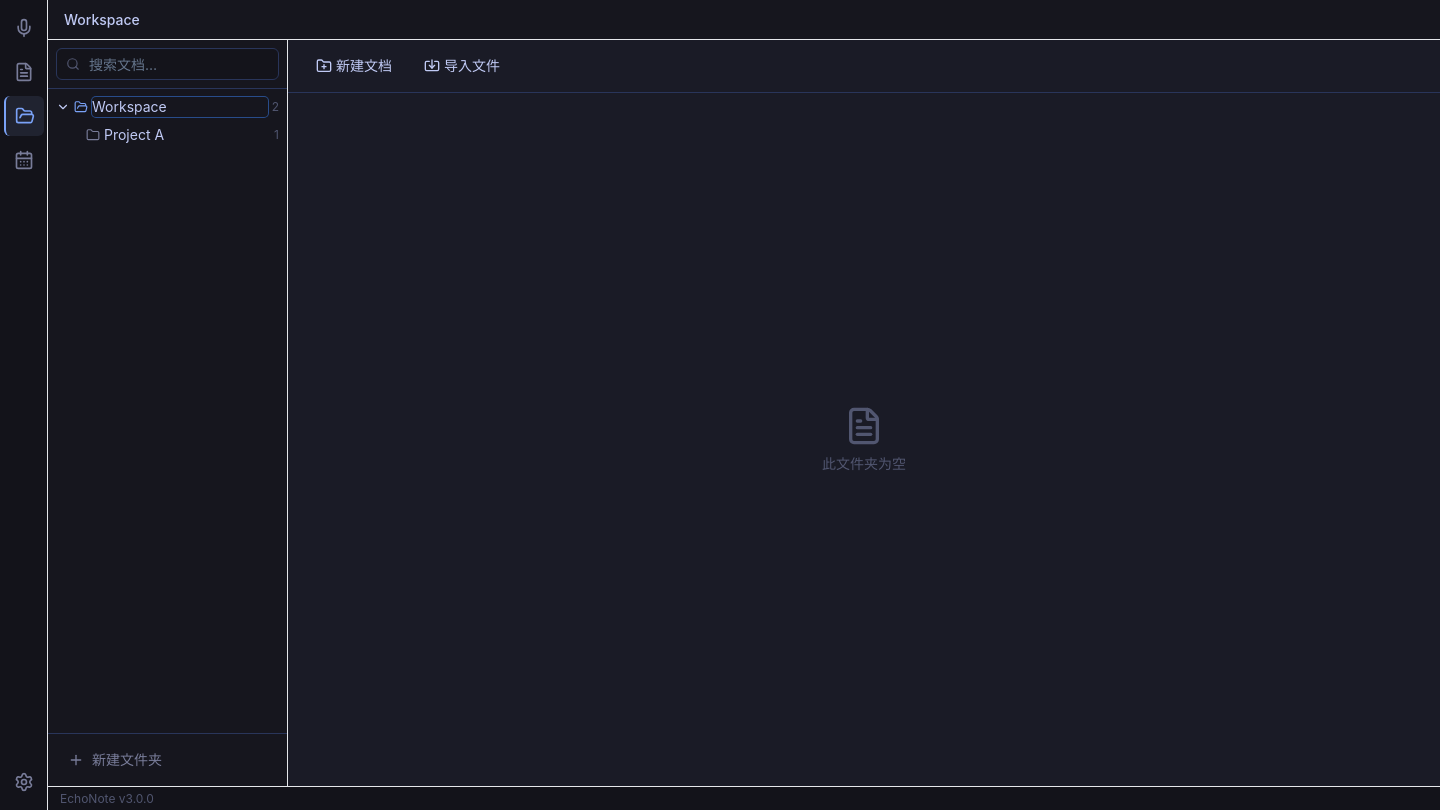
workspace routing › opens a newly created document in the editor route
Click the button "新建文档" at point(354, 66), box [304,48,404,84]
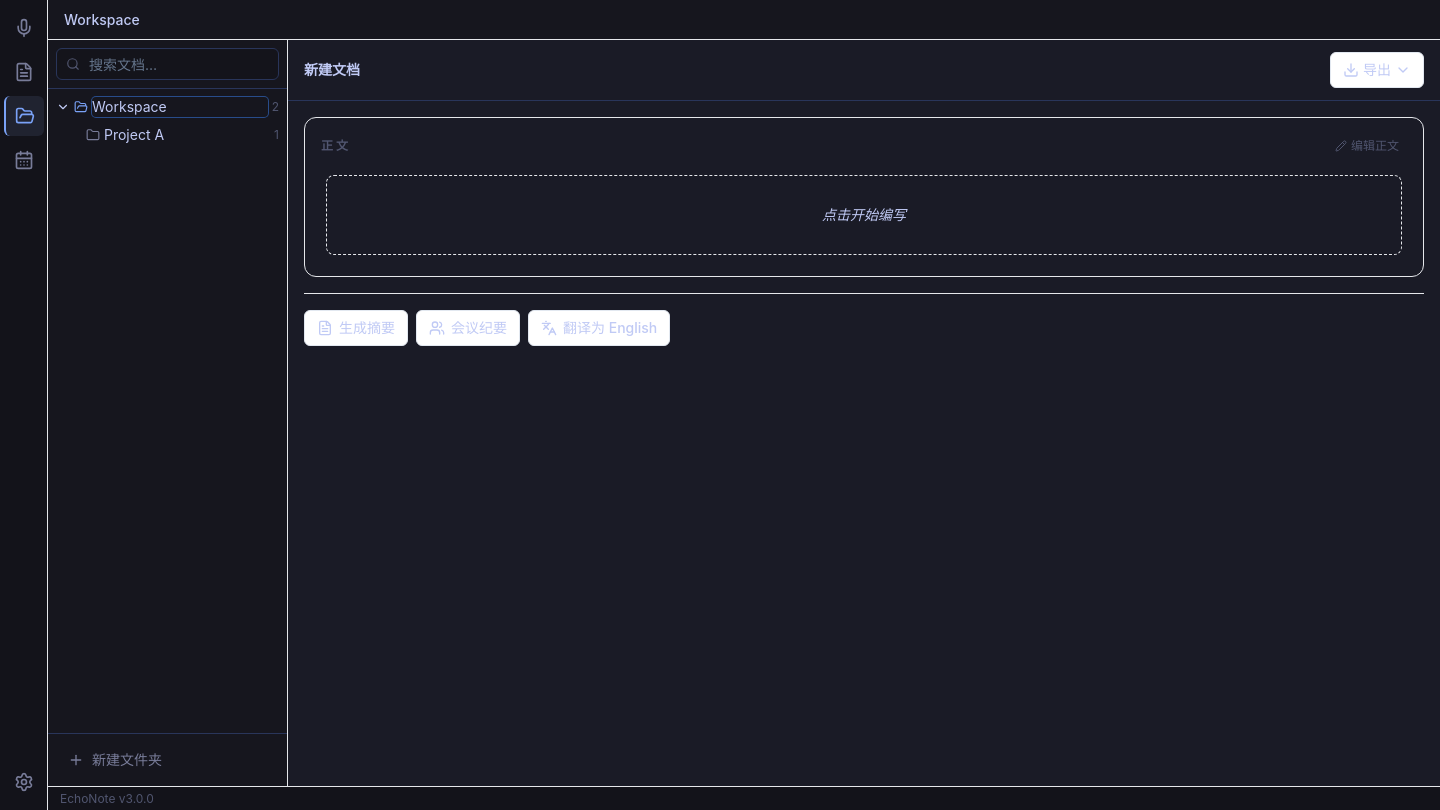
Result: the field named "标题" holds "新建文档" at [304,60,1318,80]
Result: the button "点击开始编写" is shown at [326,175,1402,255]
